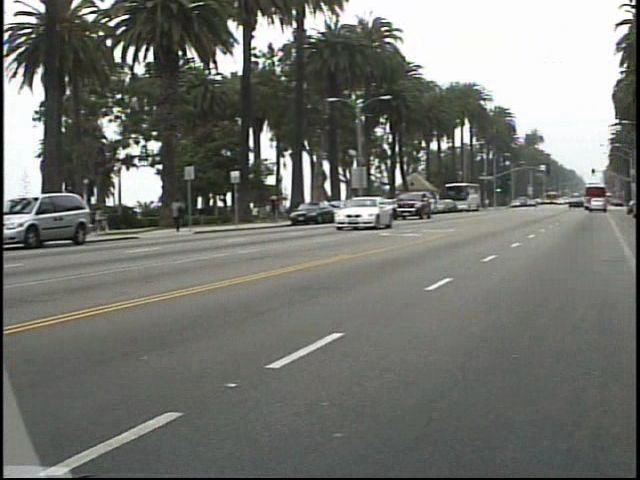person: (175, 194, 196, 233), (273, 189, 292, 224)
